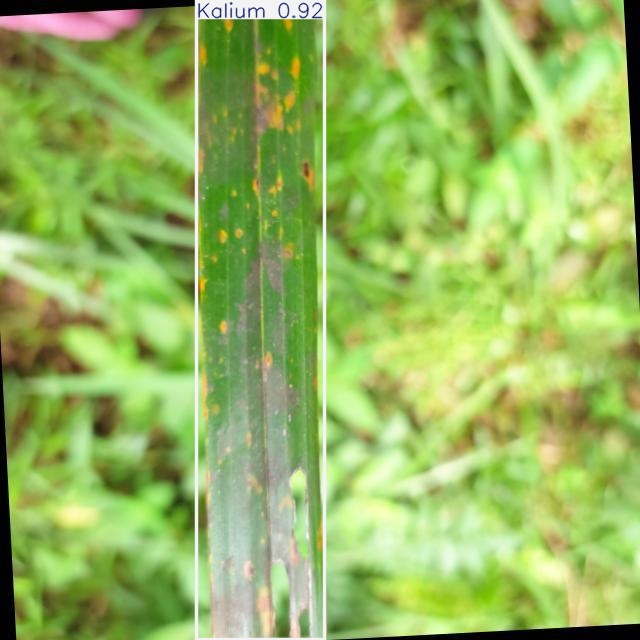Kalium: (197, 0, 325, 640)
